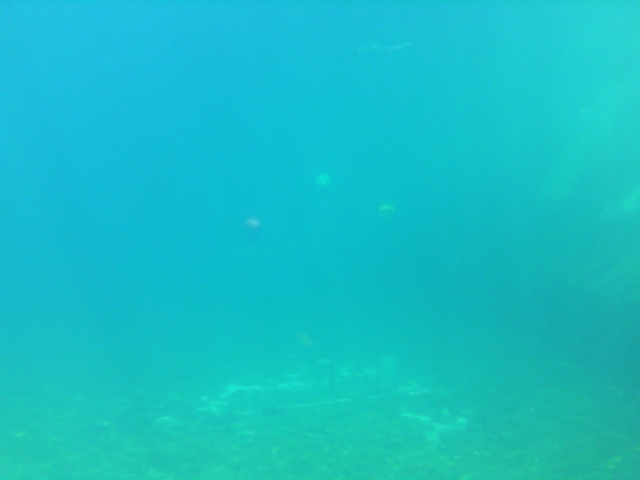buoy_green: (315, 171, 331, 195)
buoy_red: (243, 219, 261, 240)
buoy_yellow: (379, 201, 395, 222)
